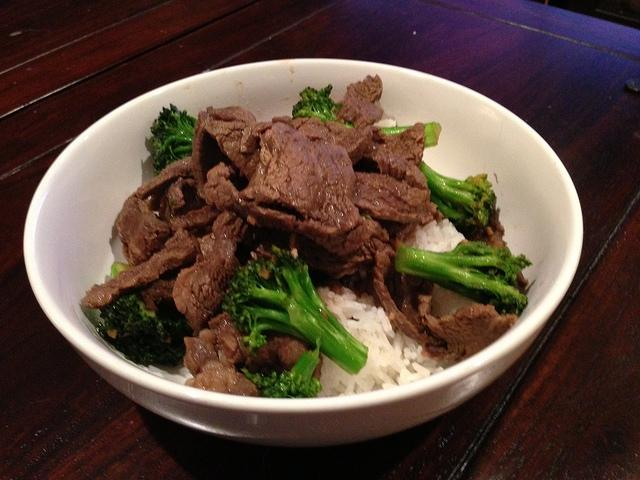broccoli: (222, 244, 370, 376), (392, 242, 533, 314), (100, 292, 191, 366), (419, 161, 496, 228), (258, 333, 322, 398), (150, 103, 198, 177), (292, 84, 355, 128)
